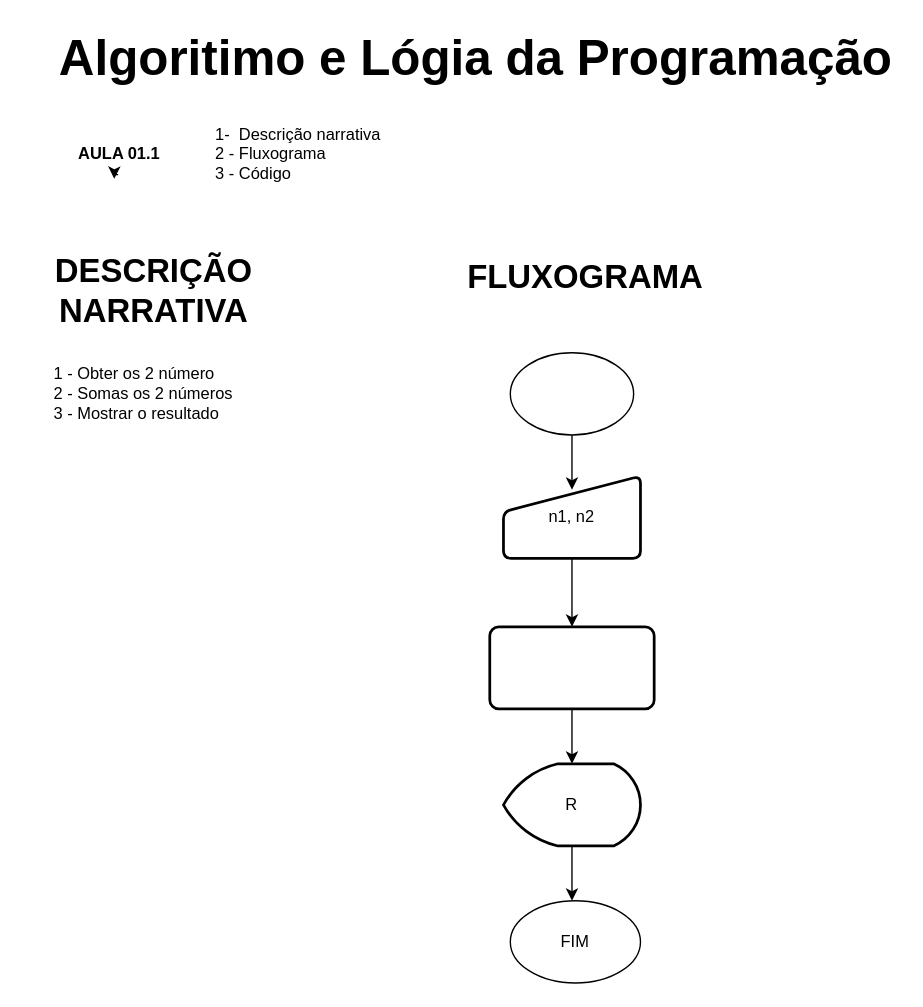
Image size: 923x1007. Some labels were removed from this diagram. The shapes that lost their labels are listed below. From the top down, each one's centre as x and y in pixels, then its label:
(571,393): INÍCIO
(571,667): R = n1 + n2
